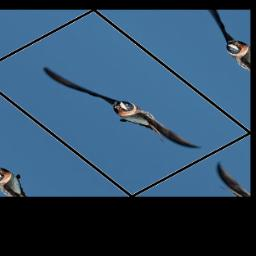Swallow: (40, 47, 204, 167)
